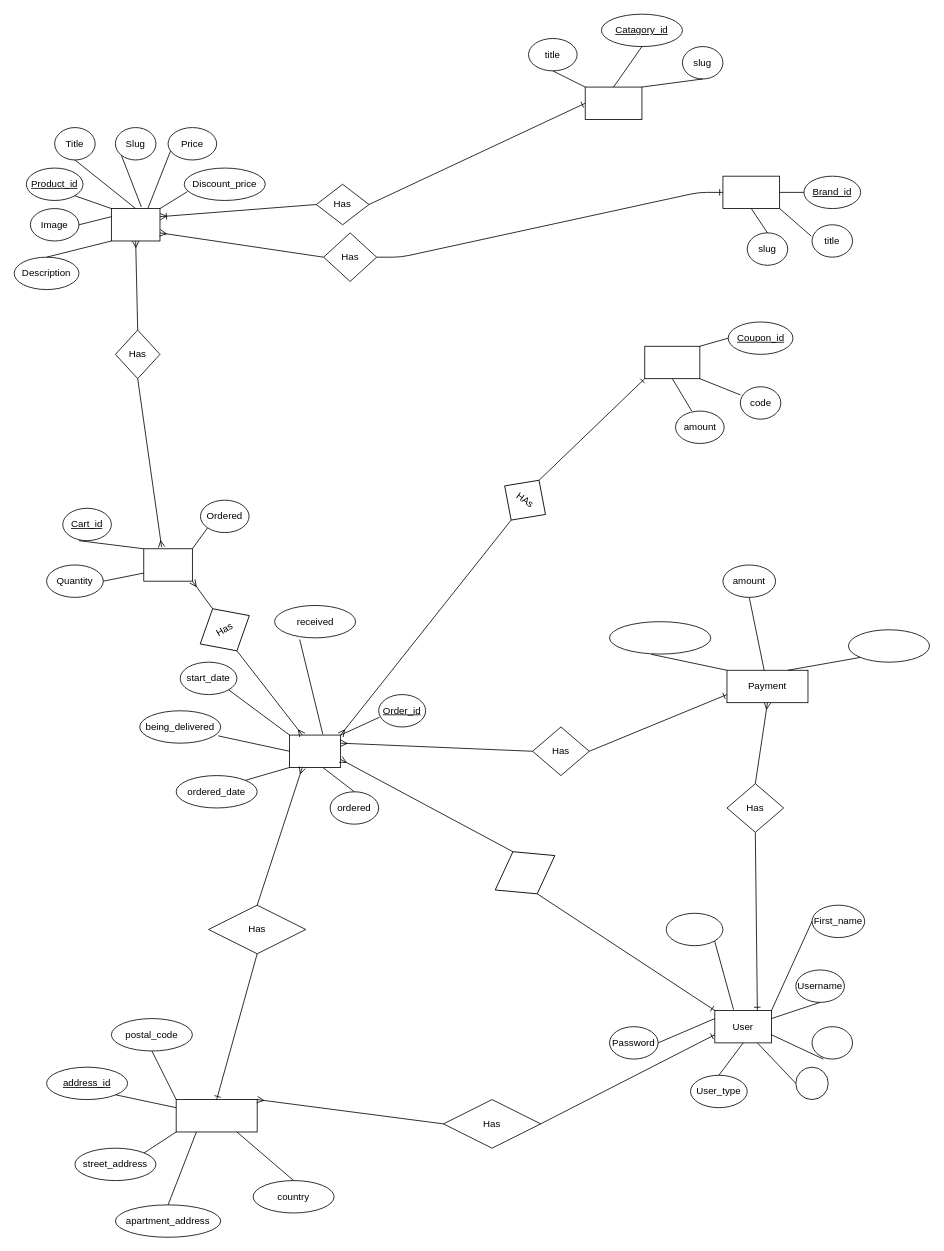
The diagram is 944 pixels wide and 1251 high, and some of its shapes have lost their labels. Each missing label, with the centre of its shape:
"Address" goes at point 216,1115.
"Brand" goes at point 751,192.
"Cart" goes at point 167,564.
"Catagory" goes at point 613,102.
"Coupon" goes at point 672,362.
"Email" goes at point 811,1083.
"gives" goes at point 524,872.
"Last_name" goes at point 694,929.
"Order" goes at point 315,750.
"Product" goes at point 135,224.
"stripe_charge_id" goes at point 660,637.
"timestamp" goes at point 888,645.
"User_id" goes at point 832,1042.
